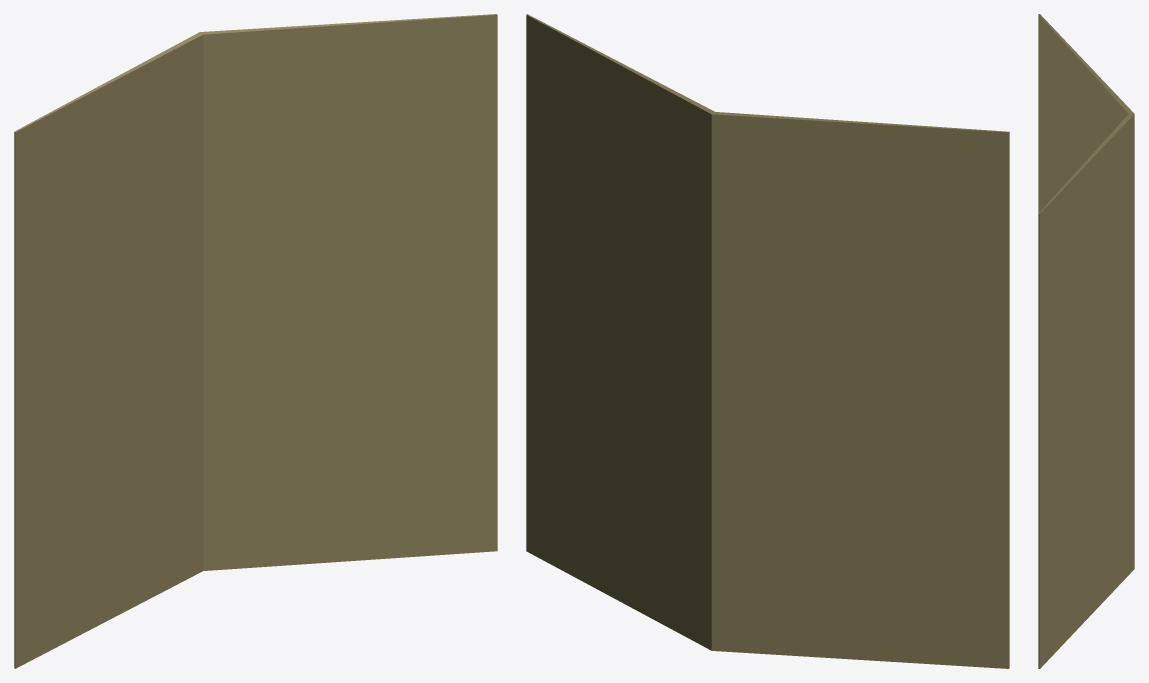
File: Item_Letter.obj
3 views of the same model, side by side, from view 1: azimuth 30°, elevation 25°; view 2: azimuth 150°, elevation 25°; view 3: azimuth 270°, elevation 25° (orthographic). The views are drawn at different scales.
Bounding box in the file's own units: 0.8 × 0.85 × 0.163.
